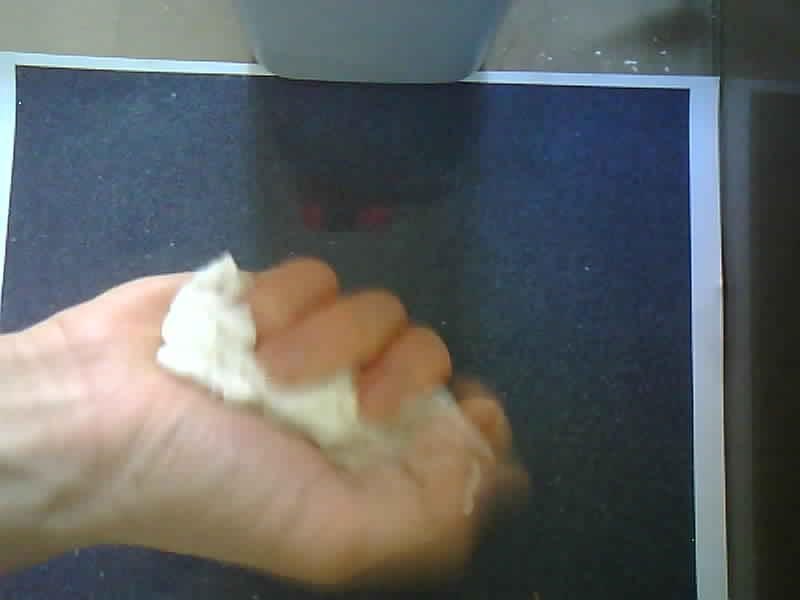paper: (158, 258, 491, 519)
